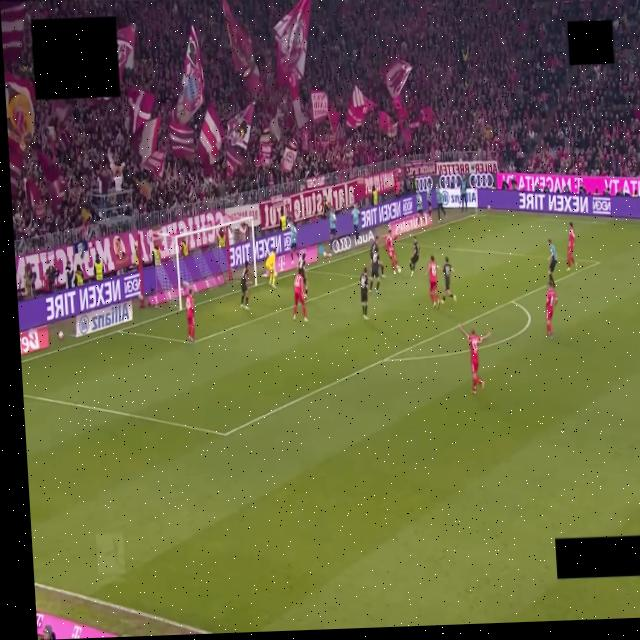player: (459, 327, 490, 394), (293, 273, 307, 321), (385, 229, 400, 273), (427, 256, 439, 308), (546, 282, 557, 338), (442, 256, 455, 302), (370, 237, 384, 278), (184, 289, 194, 342), (370, 243, 380, 295), (265, 251, 278, 289), (566, 222, 576, 271), (359, 267, 368, 320), (297, 252, 307, 299), (240, 261, 248, 310), (409, 237, 419, 276)
referee: (547, 239, 557, 287)
